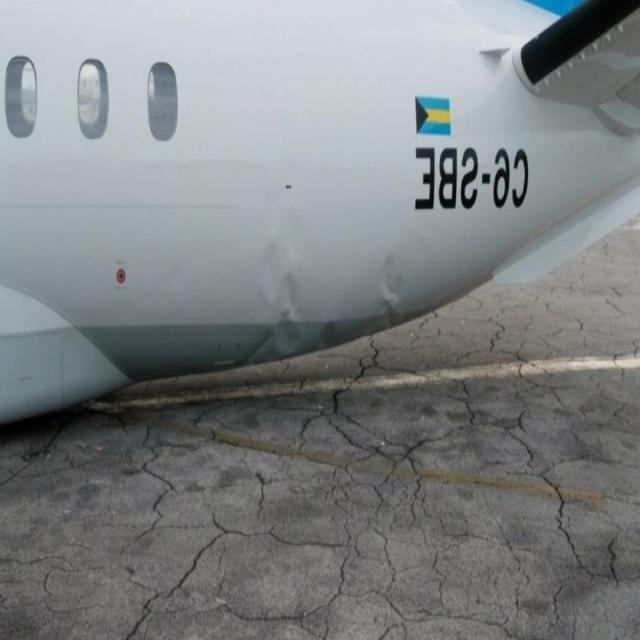dent: (251, 200, 426, 360)
